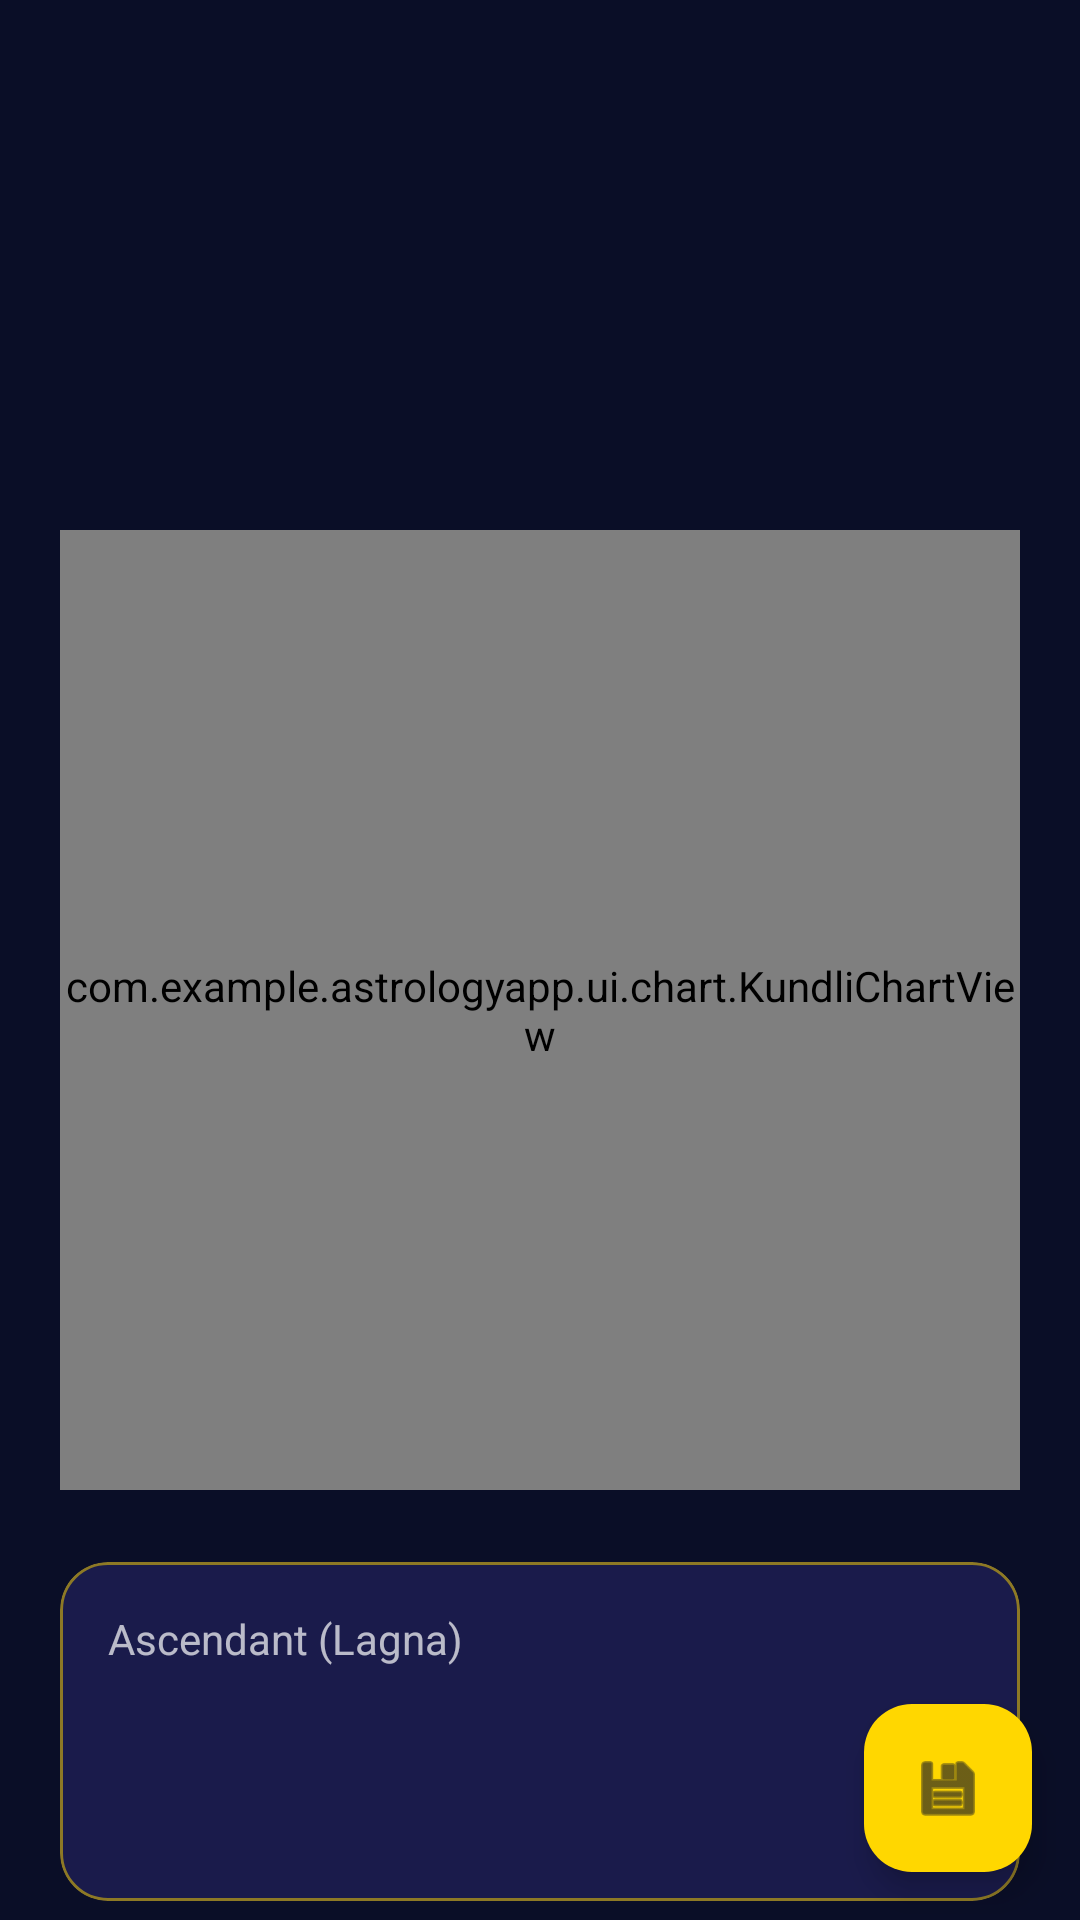

Icons on this 1080 x 1920 Android screen, each with the point to tap as [x,y]:
save: [948,1788]
